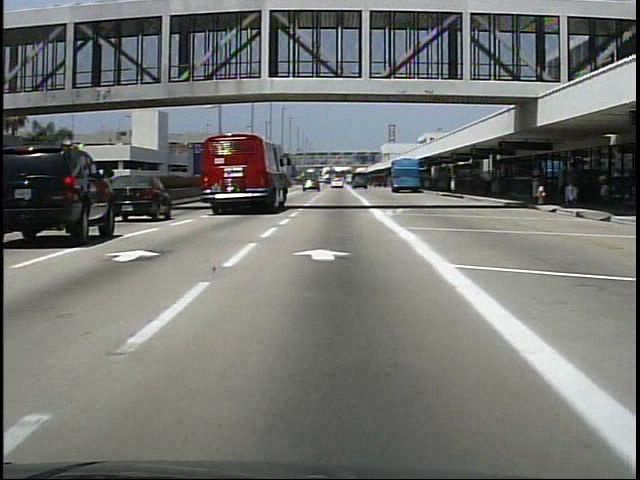person: (594, 170, 613, 214), (480, 167, 492, 193)
